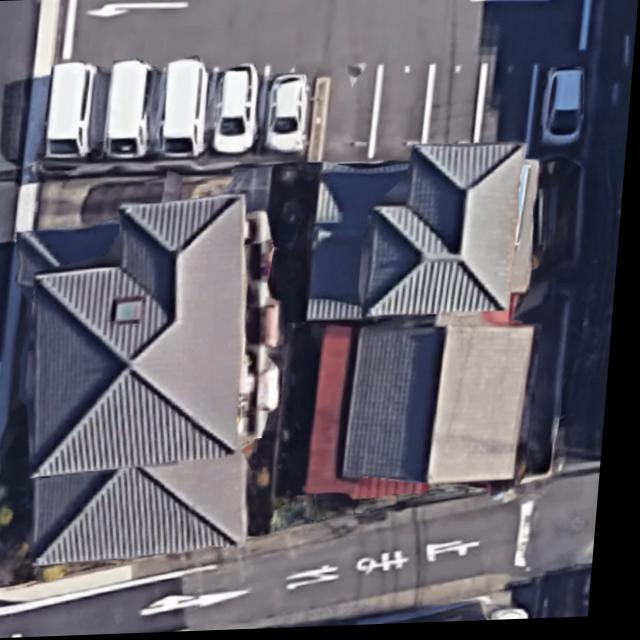Batiment: (37, 196, 256, 563), (313, 146, 542, 321), (351, 322, 539, 486), (314, 327, 437, 501)
